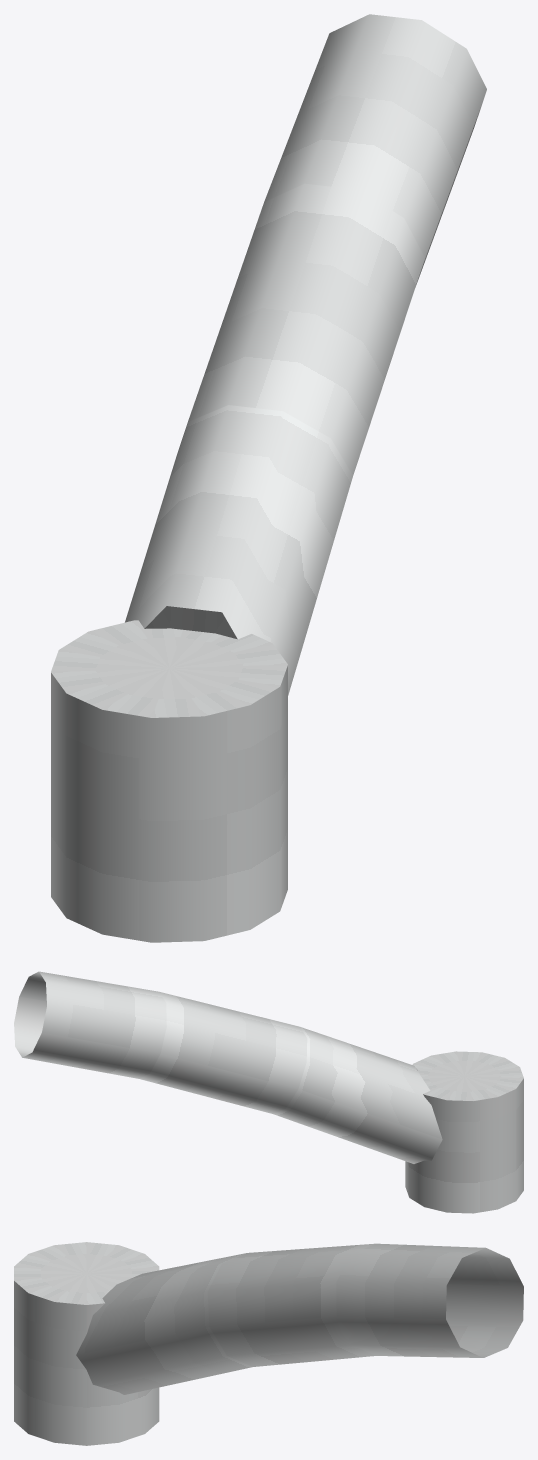
Rendered from nycsignalarm_diagonal6_c1_pedestal.obj.
3 views of the same model, one above another, from view 1: azimuth 30°, elevation 25°; view 2: azimuth 150°, elevation 25°; view 3: azimuth 270°, elevation 25° (orthographic). The views are drawn at different scales.
Parts seen in each view (by area): view 1: nycsignalarm_diagonal6_c1_pedestal; view 2: nycsignalarm_diagonal6_c1_pedestal; view 3: nycsignalarm_diagonal6_c1_pedestal.
Part boxes in pixels (bbox=[...]): nycsignalarm_diagonal6_c1_pedestal: bbox=[51, 14, 486, 942]; nycsignalarm_diagonal6_c1_pedestal: bbox=[14, 971, 523, 1213]; nycsignalarm_diagonal6_c1_pedestal: bbox=[14, 1242, 523, 1445].
Size of the model in its own units: 1.52 by 1.07 by 1.52.
